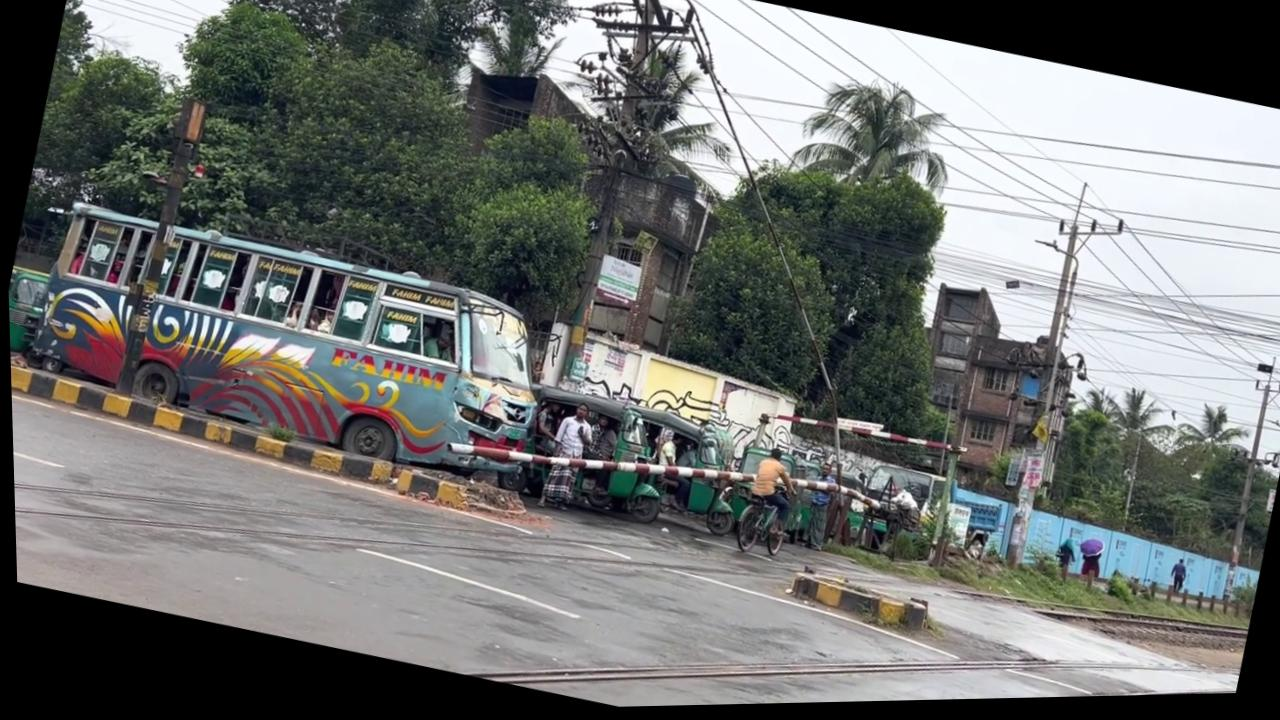Fence: (530, 399, 599, 517), (738, 447, 803, 543), (642, 431, 700, 517), (791, 462, 840, 555), (1068, 540, 1103, 593), (418, 322, 459, 365), (1045, 539, 1077, 589), (1163, 561, 1185, 598)
Garbage: (101, 92, 215, 400)
Motorcycle: (455, 504, 1234, 712)
Rickshaw: (12, 186, 566, 501)
